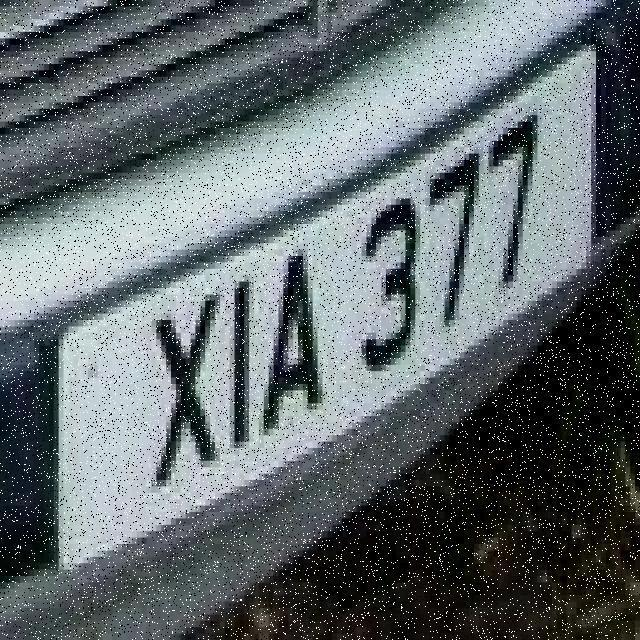LicensePlate: (24, 20, 621, 586)
